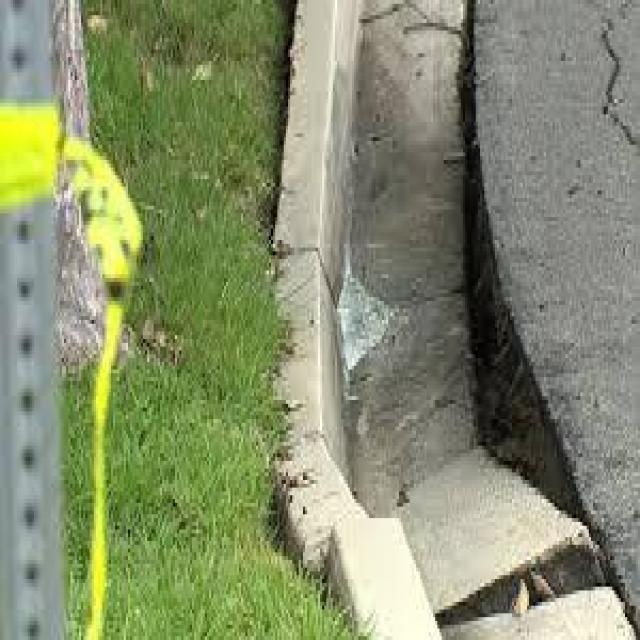hole: (294, 0, 622, 630)
